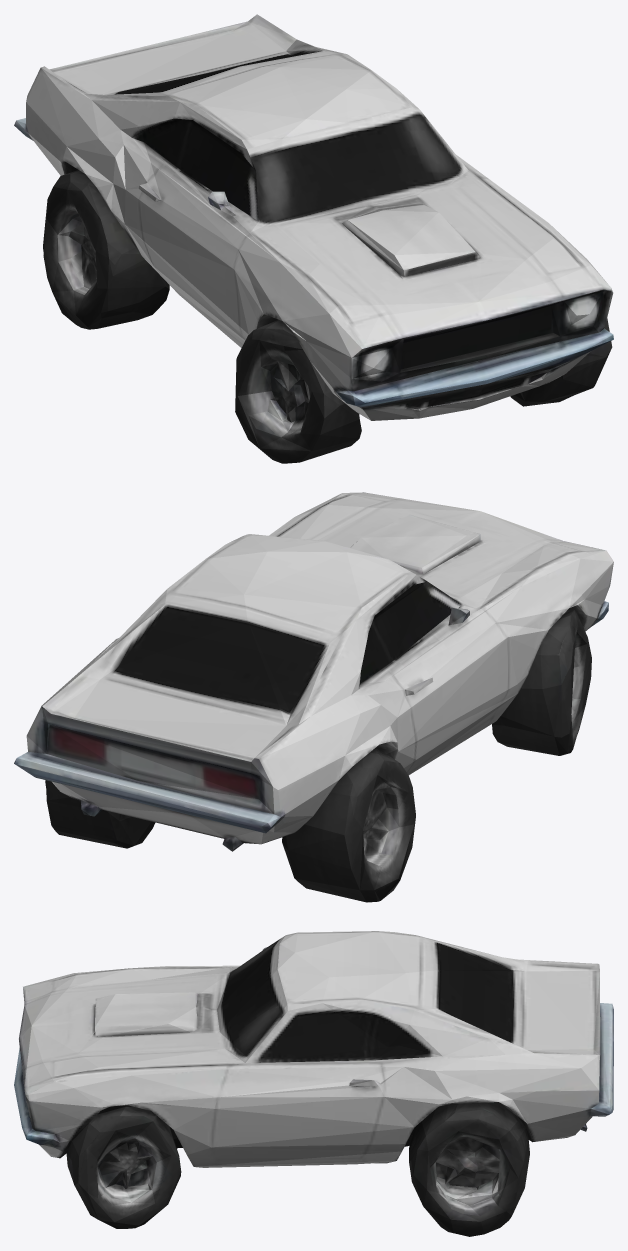
The model's file is muscle.glb.
3 views of the same model, one above another, from view 1: azimuth 30°, elevation 25°; view 2: azimuth 150°, elevation 25°; view 3: azimuth 270°, elevation 25° (orthographic). The views are drawn at different scales.
Visible parts, largest first — view 1: geometry_0; view 2: geometry_0; view 3: geometry_0.
Boxes of the visible parts, x1,y1,x2,y2 form: geometry_0: (14, 14, 613, 463); geometry_0: (14, 492, 613, 902); geometry_0: (14, 931, 613, 1236).
Bounding box in the file's own units: 2.45 × 1.76 × 4.5.
Materials: 1 (1 with a texture image).
